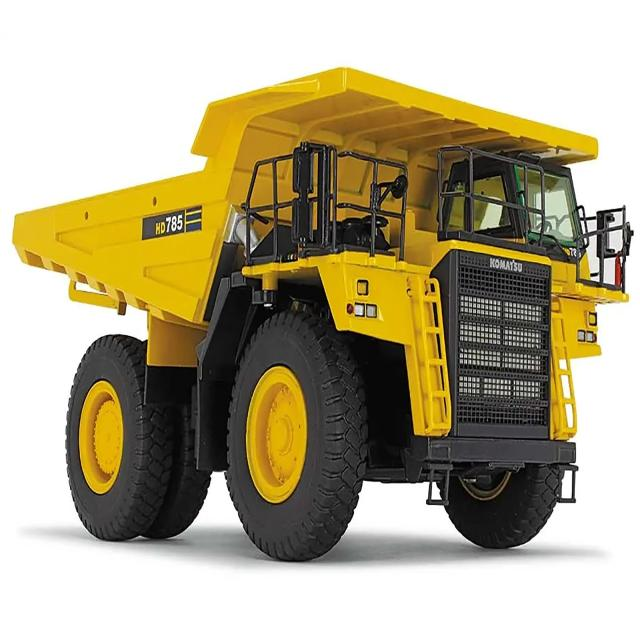dump_truck: (10, 62, 632, 564)
